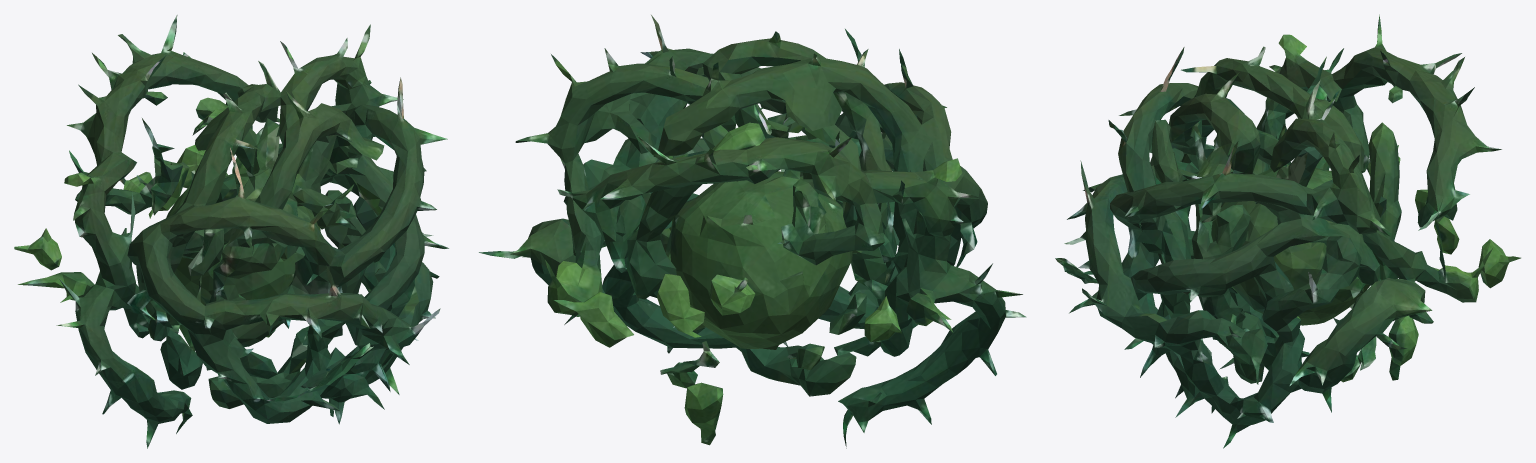
Rendered from thorn_bush.glb.
3 views of the same model, side by side, from view 1: azimuth 30°, elevation 25°; view 2: azimuth 150°, elevation 25°; view 3: azimuth 270°, elevation 25° (orthographic). The views are drawn at different scales.
Visible parts, largest first — view 1: tmp74j_8d13.ply; view 2: tmp74j_8d13.ply; view 3: tmp74j_8d13.ply.
Boxes of the visible parts, x1,y1,x2,y2 form: tmp74j_8d13.ply: [14, 14, 448, 448]; tmp74j_8d13.ply: [479, 15, 1026, 448]; tmp74j_8d13.ply: [1055, 14, 1520, 448].
Size of the model in its own units: 1.93 by 1.52 by 1.87.
Materials: 1 (1 with a texture image).
